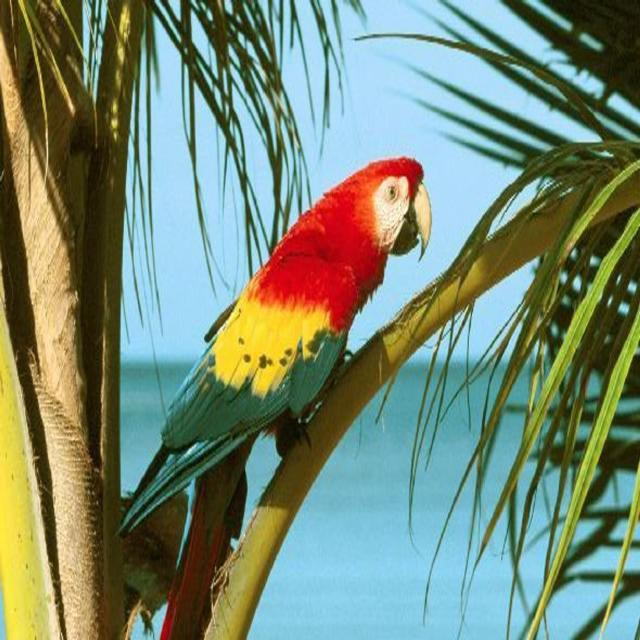Parrot: (126, 153, 434, 520)
